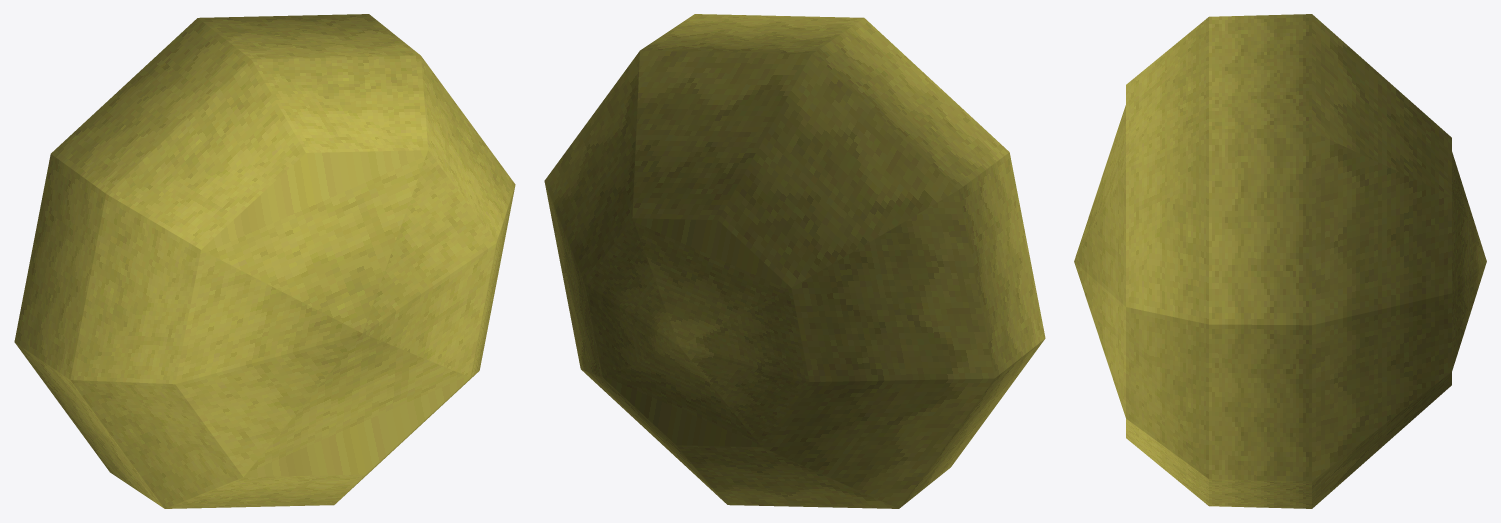
File: SM_AP_Tree_Canopy_1.glb
The picture shows the model from 3 angles, left to right: view 1: azimuth 30°, elevation 25°; view 2: azimuth 150°, elevation 25°; view 3: azimuth 270°, elevation 25°; orthographic projection. The views are drawn at different scales.
Visible parts, largest first — view 1: SM_AP_Tree_Canopy_1; view 2: SM_AP_Tree_Canopy_1; view 3: SM_AP_Tree_Canopy_1.
Boxes of the visible parts, <box> form: SM_AP_Tree_Canopy_1: <box>14,14,515,508</box>; SM_AP_Tree_Canopy_1: <box>544,14,1045,508</box>; SM_AP_Tree_Canopy_1: <box>1074,14,1486,508</box>.
Bounding box in the file's own units: 10.51 × 10.51 × 8.63.
Materials: 1 (1 with a texture image).
